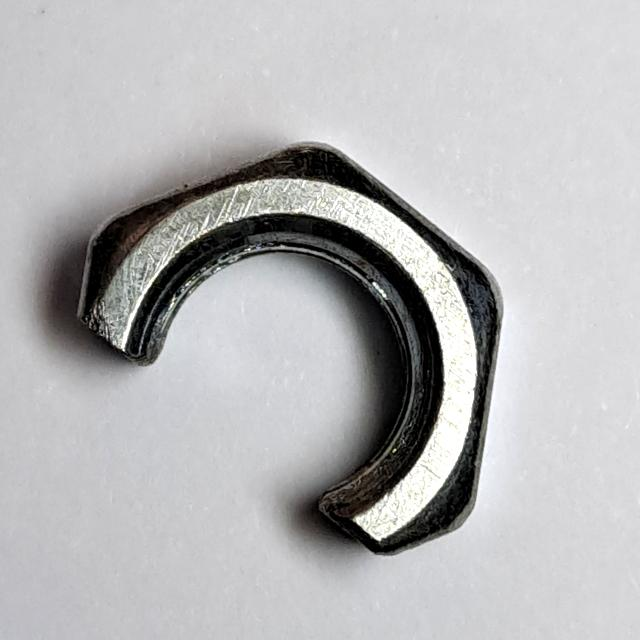Fracture: (70, 128, 511, 568)
